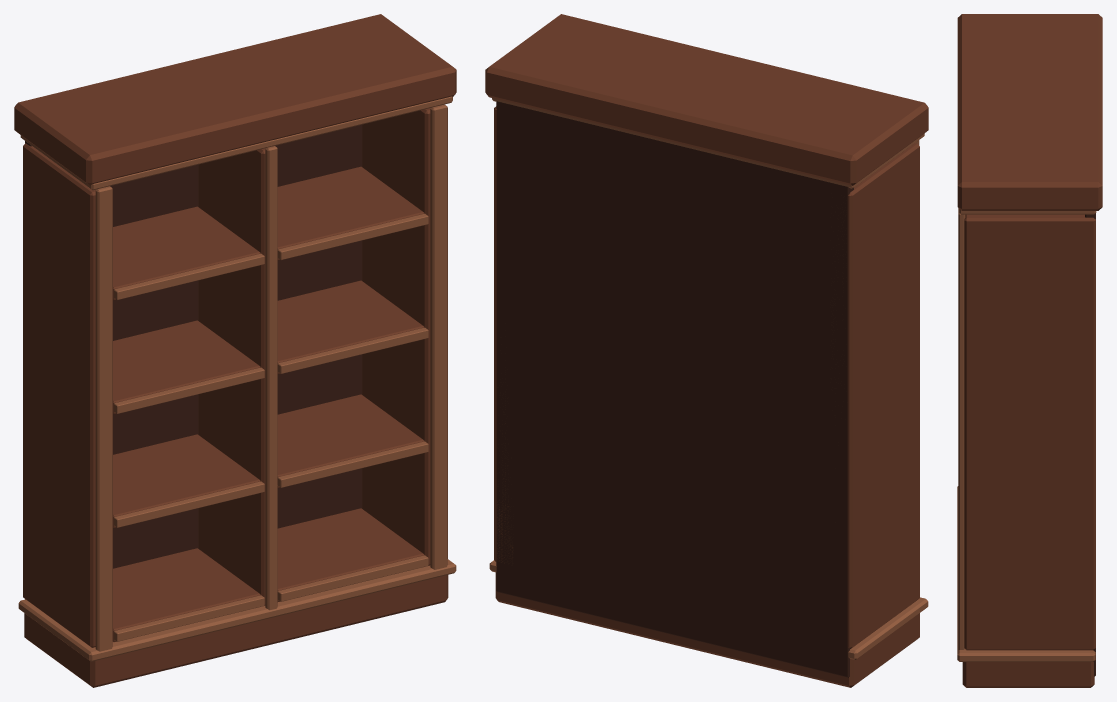
Rendered from bookshelf_01.glb.
3 views of the same model, side by side, from view 1: azimuth 30°, elevation 25°; view 2: azimuth 150°, elevation 25°; view 3: azimuth 270°, elevation 25° (orthographic). The views are drawn at different scales.
Visible parts, largest first — view 1: Cornice, Stile_0, Back, Stile_2, Stile_1, Base, StileFace_2, StileFace_0, Shelf_0_0, Shelf_0_1, Shelf_0_3, Shelf_0_2 (+15 smaller); view 2: Back, Cornice, Stile_0, Base, Stile_2, BaseLip, CorniceEdge; view 3: Stile_2, Cornice, Base, StileFace_2, BaseLip, CorniceEdge.
Boxes of the visible parts, bbox=[...] form: Cornice: bbox=[14, 14, 456, 185]; Stile_0: bbox=[23, 143, 112, 647]; Back: bbox=[25, 124, 362, 599]; Stile_2: bbox=[362, 108, 447, 565]; Stile_1: bbox=[198, 148, 265, 605]; Base: bbox=[24, 575, 448, 687]; StileFace_2: bbox=[430, 104, 447, 569]; StileFace_0: bbox=[95, 186, 112, 651]; Shelf_0_0: bbox=[112, 548, 260, 641]; Shelf_0_1: bbox=[113, 434, 260, 528]; Shelf_0_3: bbox=[113, 206, 260, 300]; Shelf_0_2: bbox=[113, 320, 260, 414]; Back: bbox=[496, 101, 853, 677]; Cornice: bbox=[485, 14, 928, 185]; Stile_0: bbox=[843, 143, 919, 648]; Base: bbox=[495, 572, 919, 687]; Stile_2: bbox=[494, 106, 513, 563]; BaseLip: bbox=[489, 560, 928, 659]; CorniceEdge: bbox=[492, 98, 924, 188]; Stile_2: bbox=[964, 214, 1095, 650]; Cornice: bbox=[957, 14, 1102, 210]; Base: bbox=[962, 662, 1094, 687]; StileFace_2: bbox=[958, 208, 965, 649]; BaseLip: bbox=[957, 486, 1095, 661]; CorniceEdge: bbox=[959, 209, 1096, 214].
Bounding box in the file's own units: 1.32 × 1.83 × 0.4743.
